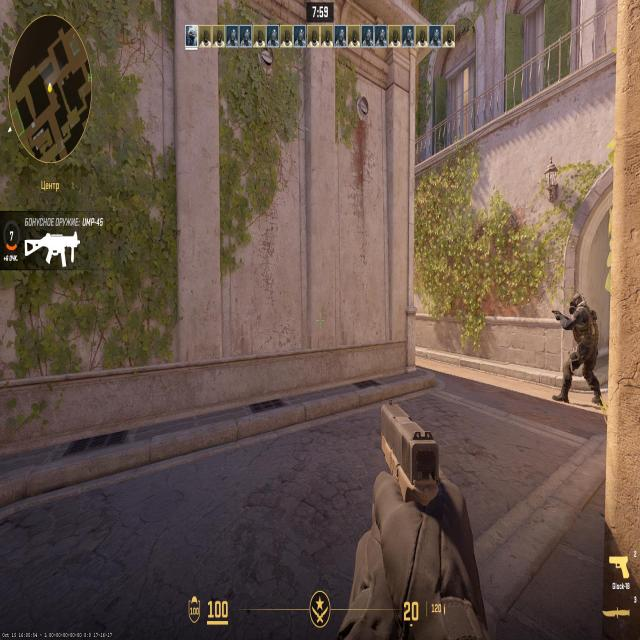CT: (570, 294, 594, 387)
CT_heat: (570, 291, 582, 316)
